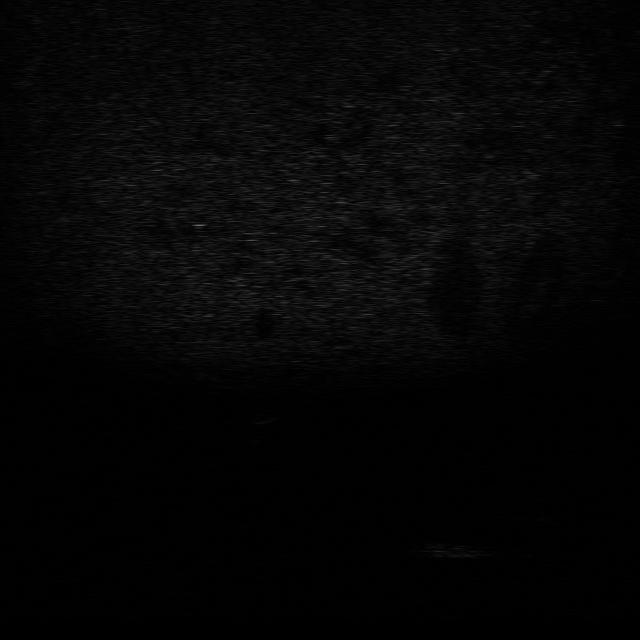ball: (242, 406, 284, 426)
metal bucket: (414, 536, 490, 564)
tyre: (510, 493, 569, 526)
